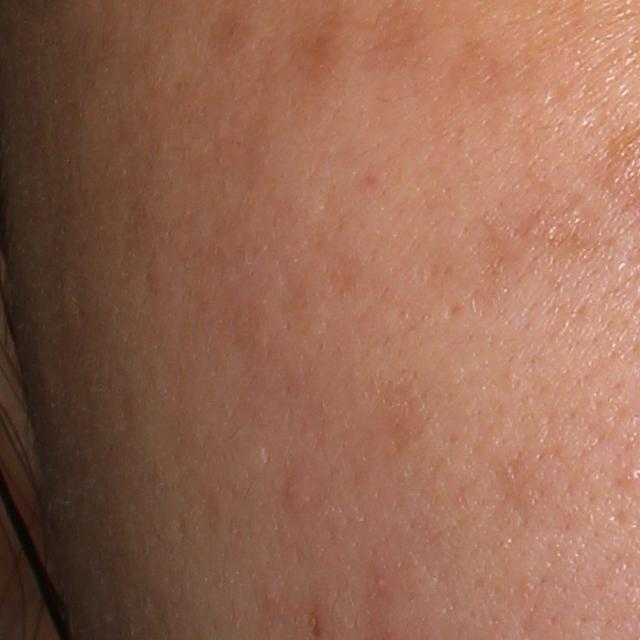atrophic_scar: (446, 301, 465, 319)
